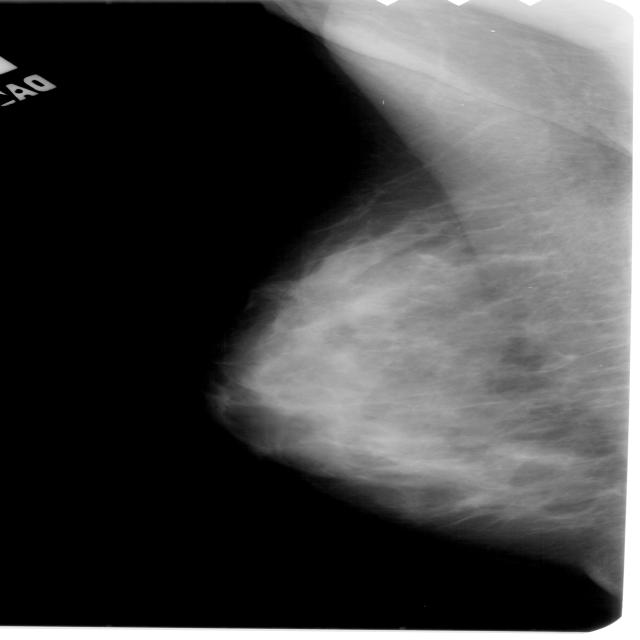cancer: (240, 244, 487, 506)
